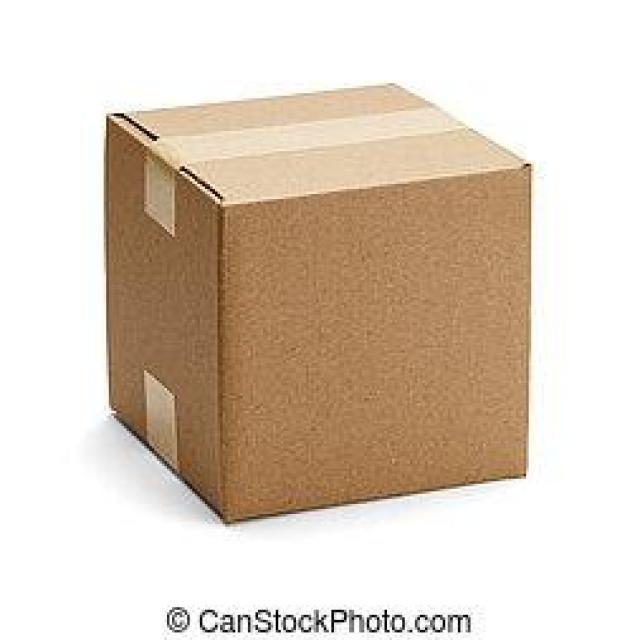box: (92, 89, 542, 530)
